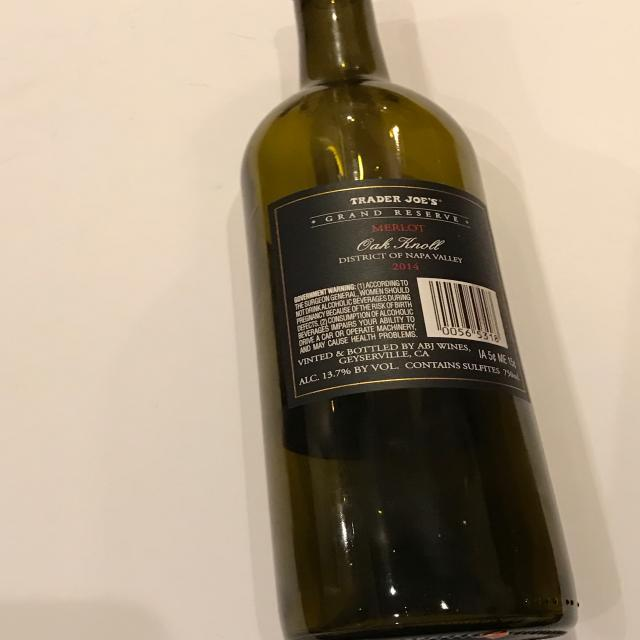glass: (235, 2, 584, 640)
